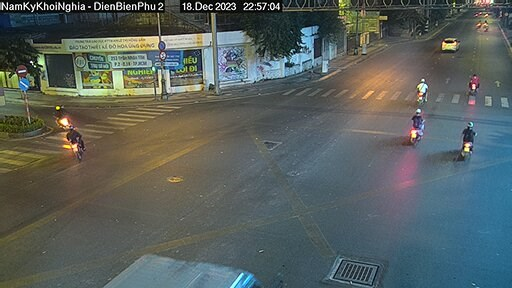car: (439, 33, 461, 52)
motorbike: (64, 124, 92, 161), (458, 119, 481, 163), (407, 110, 431, 145), (52, 99, 76, 129), (418, 80, 432, 101), (467, 71, 479, 92)
